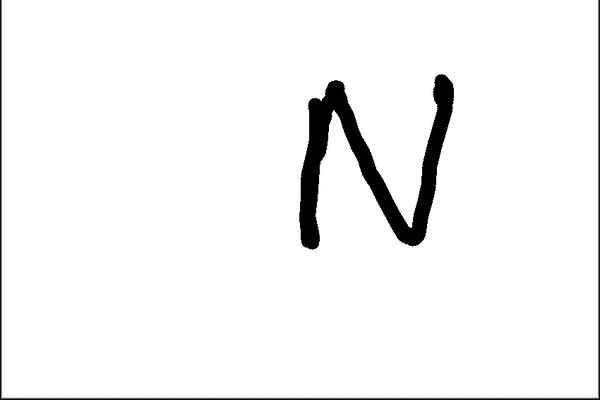N: (290, 67, 460, 256)
